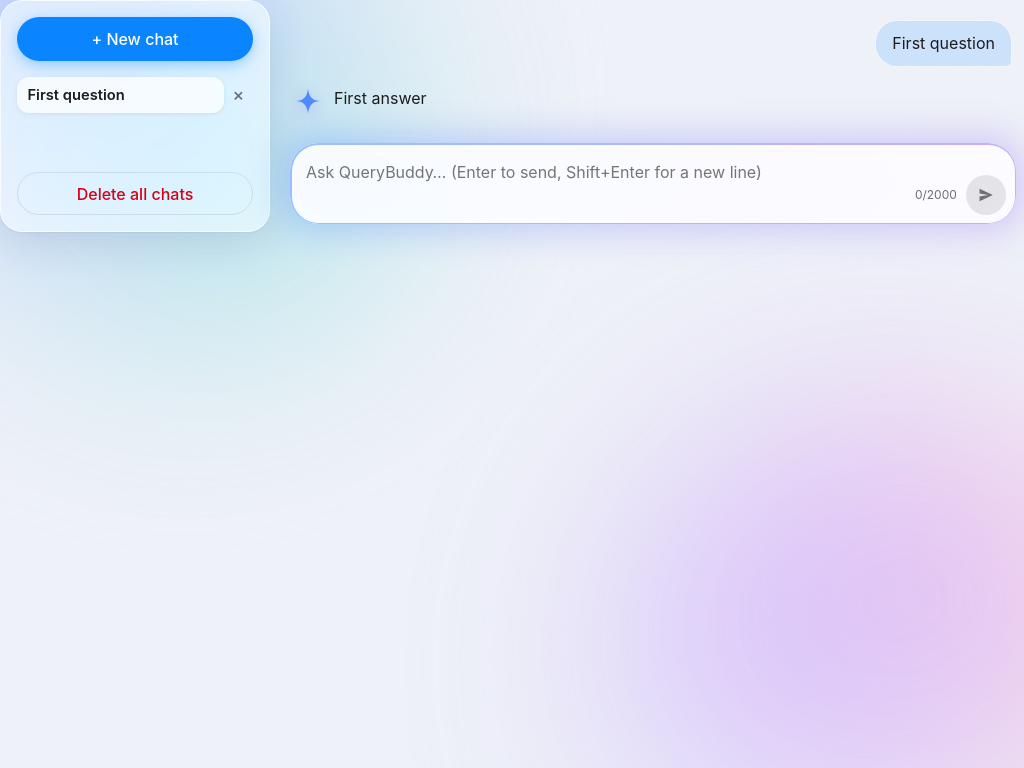
Test: ChatPage › shows the latest messages when returning to a conversation
Expected: the text "First answer" is shown, [334,86,427,110]
Click the button "+ New chat". click: click(135, 39)
box: [17,17,253,61]
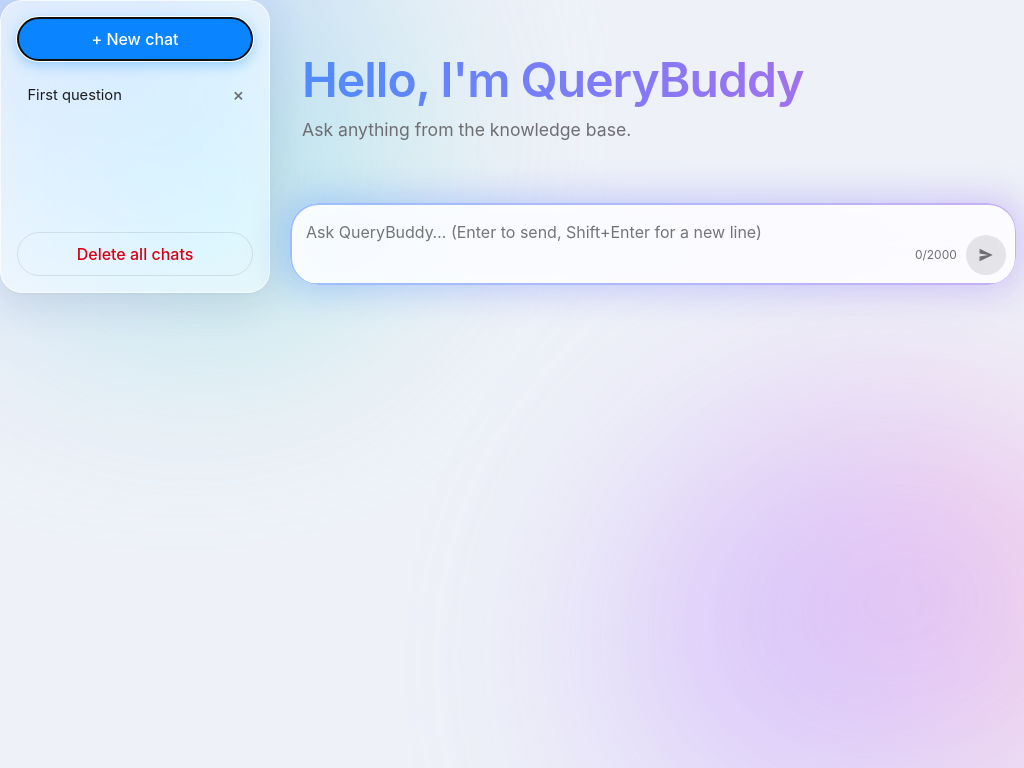
Expected: the text "First answer" is gone
Click the link "First question". click: click(75, 95)
box: [27,86,122,104]
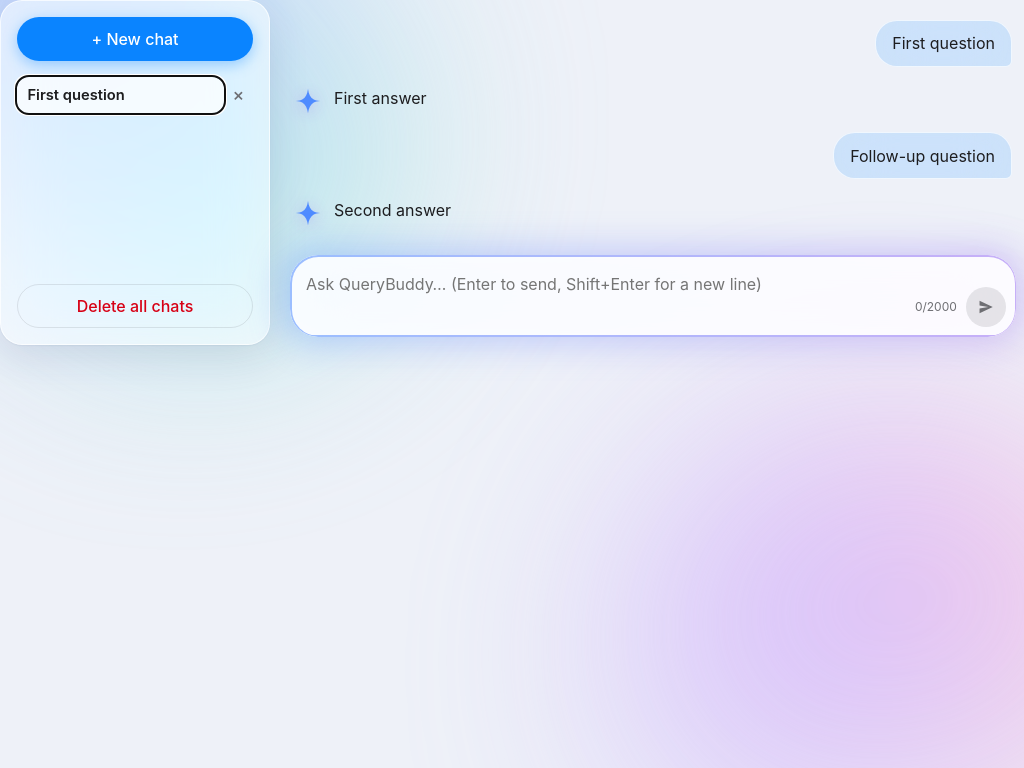
Expected: the text "Second answer" is shown, [334,198,451,222]
